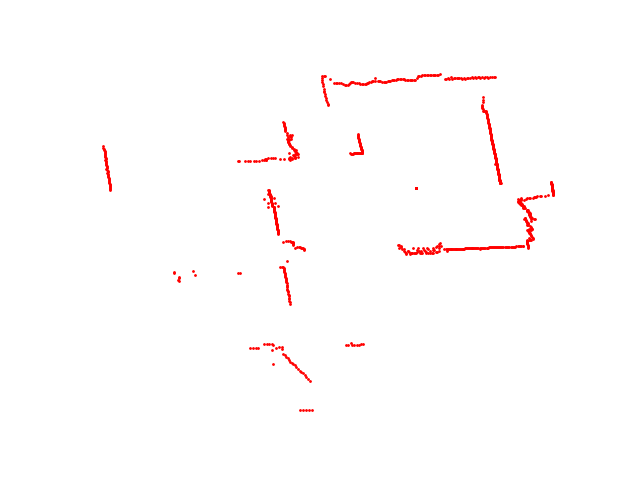person: (280, 237, 309, 254)
